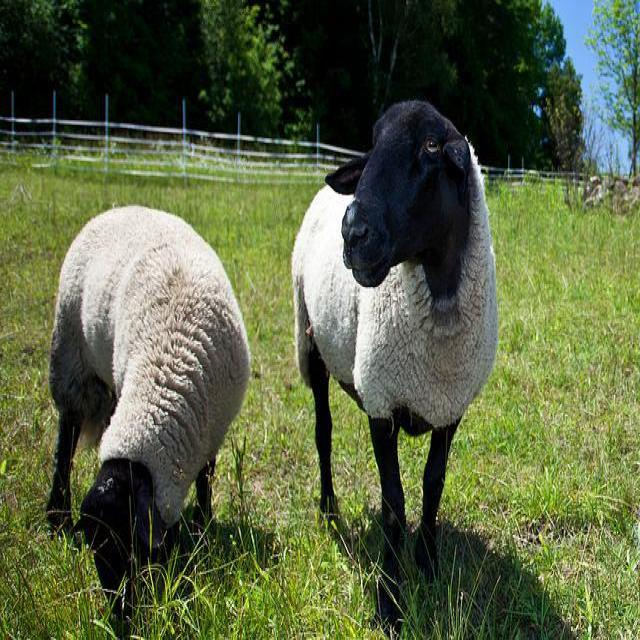Sheep: (291, 104, 496, 624), (47, 204, 250, 604)
